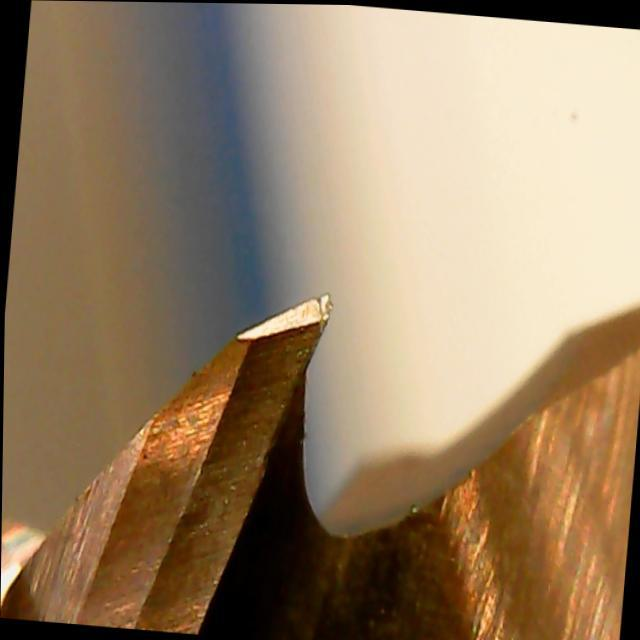Tool-wear-class-1: (148, 252, 345, 567)
